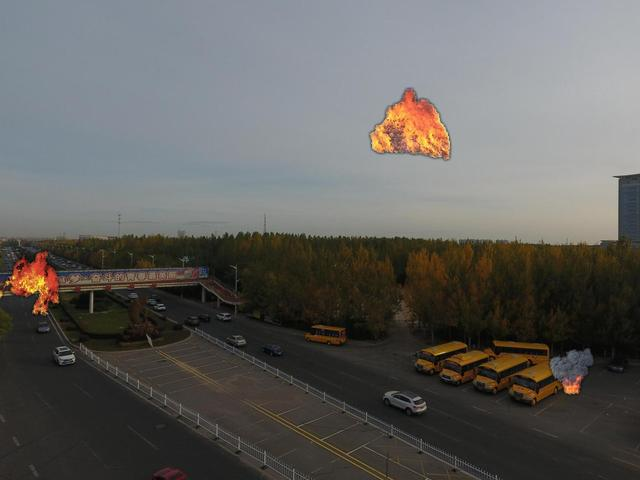fire: (369, 88, 452, 160), (1, 249, 61, 316), (548, 345, 594, 396)
